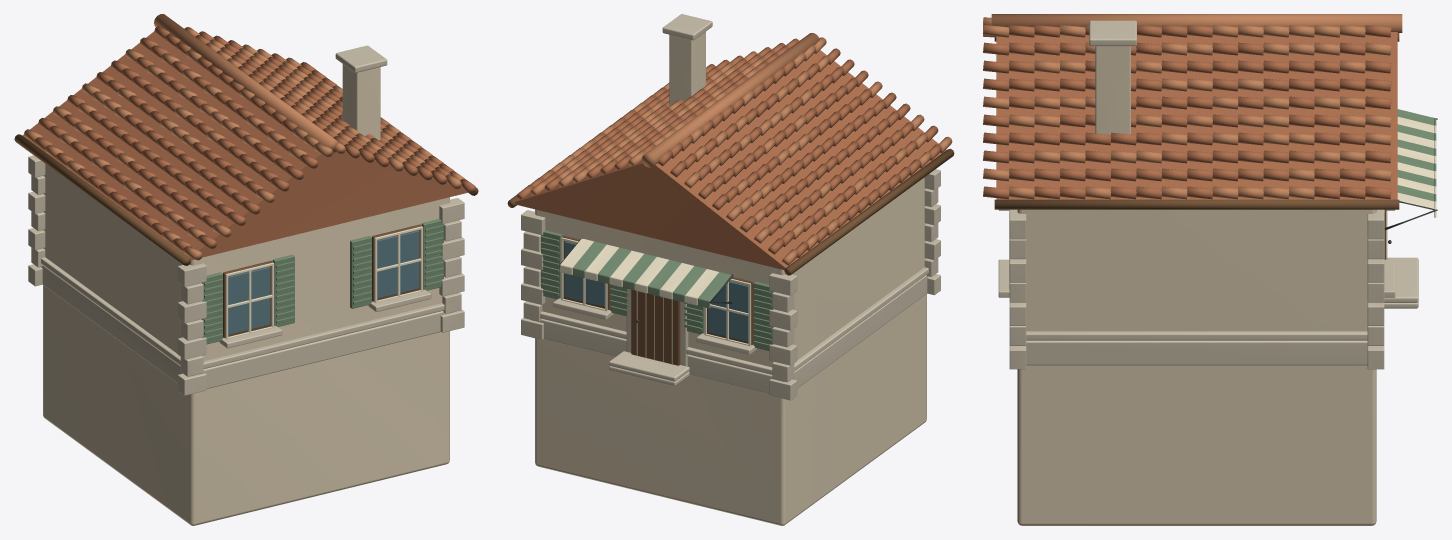
Rendered from village_house_1.glb.
The picture shows the model from 3 angles, left to right: view 1: azimuth 30°, elevation 25°; view 2: azimuth 150°, elevation 25°; view 3: azimuth 270°, elevation 25°; orthographic projection. The views are drawn at different scales.
Parts seen in each view (by area): view 1: VillageHouse1_Geometry; view 2: VillageHouse1_Geometry; view 3: VillageHouse1_Geometry.
Part boxes in pixels (x1=…): VillageHouse1_Geometry: x1=14, y1=14, x2=478, y2=525; VillageHouse1_Geometry: x1=507, y1=14, x2=954, y2=525; VillageHouse1_Geometry: x1=983, y1=14, x2=1437, y2=525.
Size of the model in its own units: 6.82 by 8.64 by 7.6.
